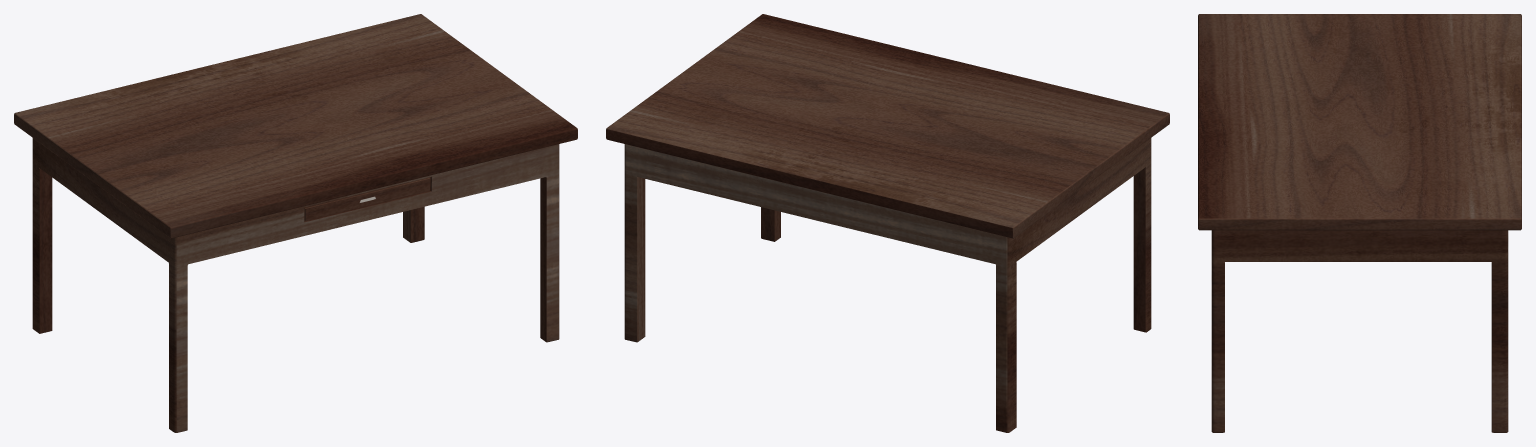
File: Main Menu Table.fbx
3 views of the same model, side by side, from view 1: azimuth 30°, elevation 25°; view 2: azimuth 150°, elevation 25°; view 3: azimuth 270°, elevation 25° (orthographic). The views are drawn at different scales.
Visible parts, largest first — view 1: Table; view 2: Table; view 3: Table.
Boxes of the visible parts, x1,y1,x2,y2 form: Table: [14, 14, 577, 432]; Table: [606, 14, 1169, 432]; Table: [1198, 14, 1521, 432].
Size of the model in its own units: 1.59 by 0.795 by 1.06.
1 material, 1 textured.
